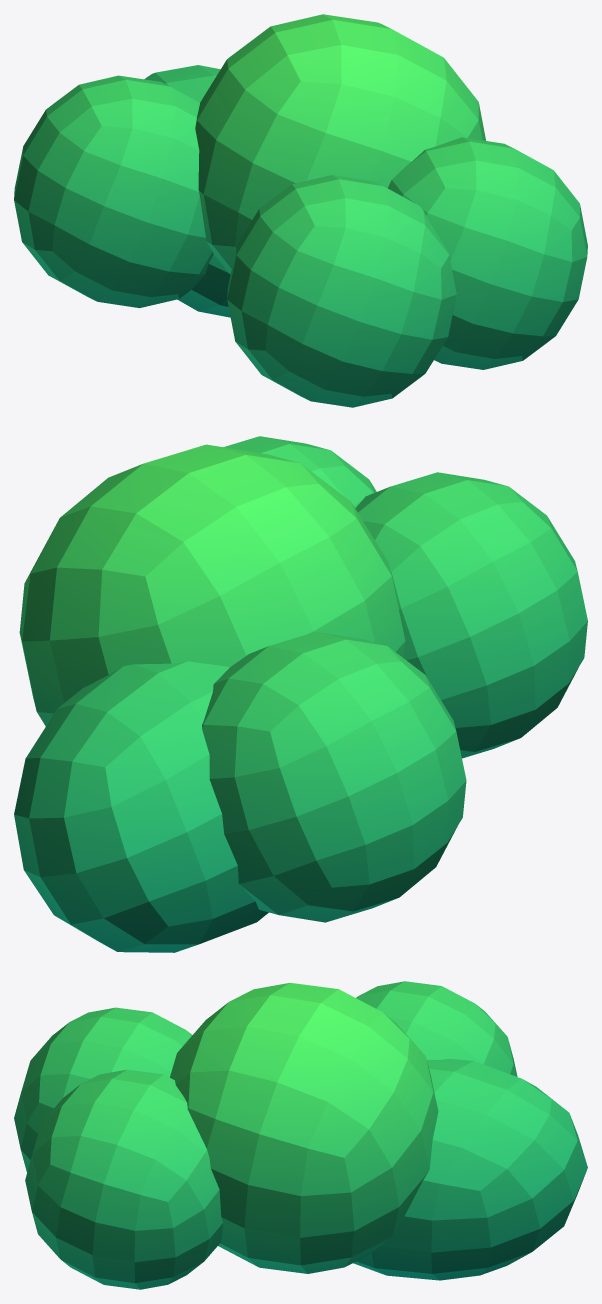
Rendered from Buisson1.fbx.
The picture shows the model from 3 angles, top to bottom: view 1: azimuth 30°, elevation 25°; view 2: azimuth 150°, elevation 25°; view 3: azimuth 270°, elevation 25°; orthographic projection. The views are drawn at different scales.
Parts seen in each view (by area): view 1: Cube.008; view 2: Cube.008; view 3: Cube.008.
Boxes of the visible parts, bbox=[...] form: Cube.008: bbox=[14, 14, 587, 407]; Cube.008: bbox=[14, 436, 587, 952]; Cube.008: bbox=[14, 981, 587, 1289].
Size of the model in its own units: 966 by 719 by 1297.
